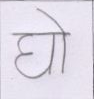o_matra: (57, 20, 70, 71)
